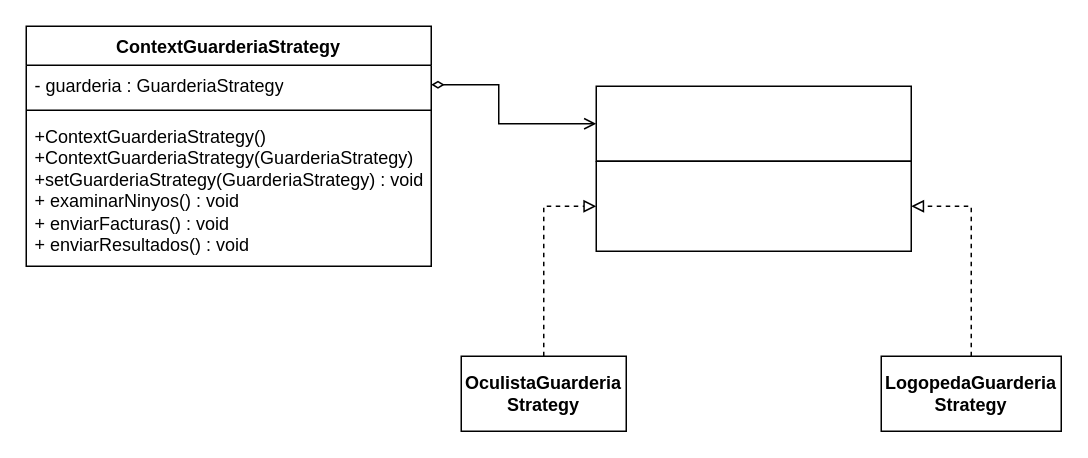
This 1088x458 diagram has some shape labels left out. Each missing label, with the centre of its shape:
+ examinarNinyos() : void + enviarFacturas() : void + enviarResultados() : void: point (753, 205)
«interface» GuarderiaStrategy: point (753, 123)
